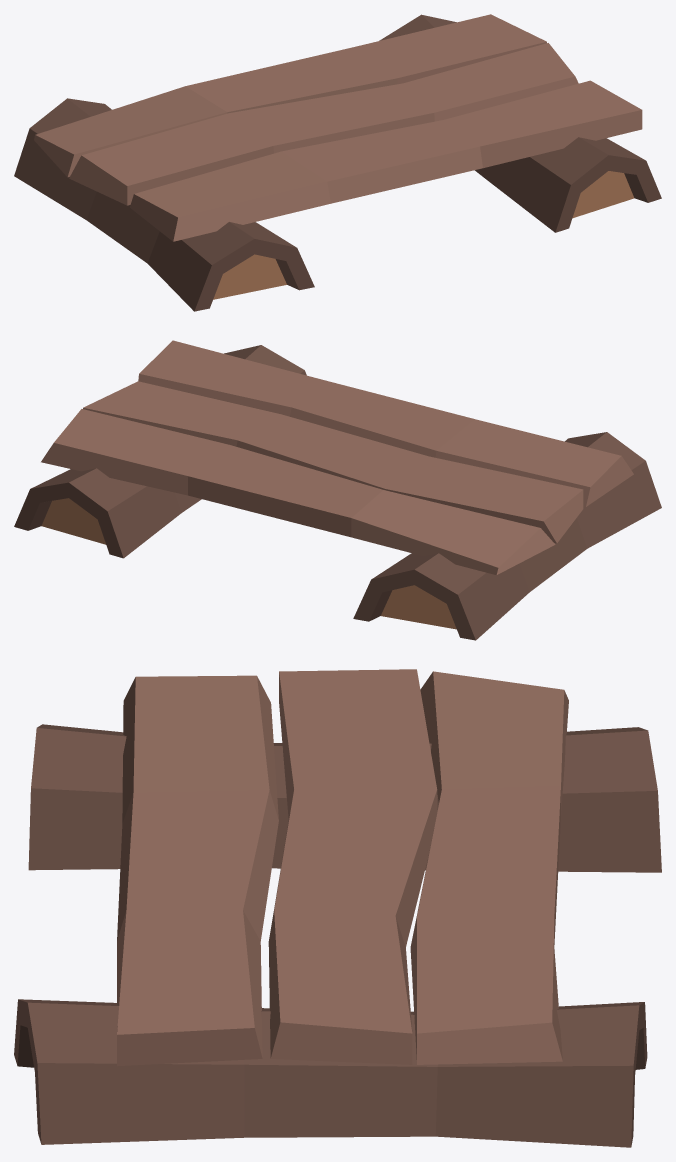
File: WoodenStool_01.fbx
The picture shows the model from 3 angles, top to bottom: view 1: azimuth 30°, elevation 25°; view 2: azimuth 150°, elevation 25°; view 3: azimuth 270°, elevation 25°; orthographic projection. The views are drawn at different scales.
Visible parts, largest first — view 1: WoodenStool_01; view 2: WoodenStool_01; view 3: WoodenStool_01.
Boxes of the visible parts, x1,y1,x2,y2 form: WoodenStool_01: (14, 14, 661, 311); WoodenStool_01: (14, 340, 661, 640); WoodenStool_01: (14, 669, 661, 1147).
Bounding box in the file's own units: 256 × 35.96 × 187.
